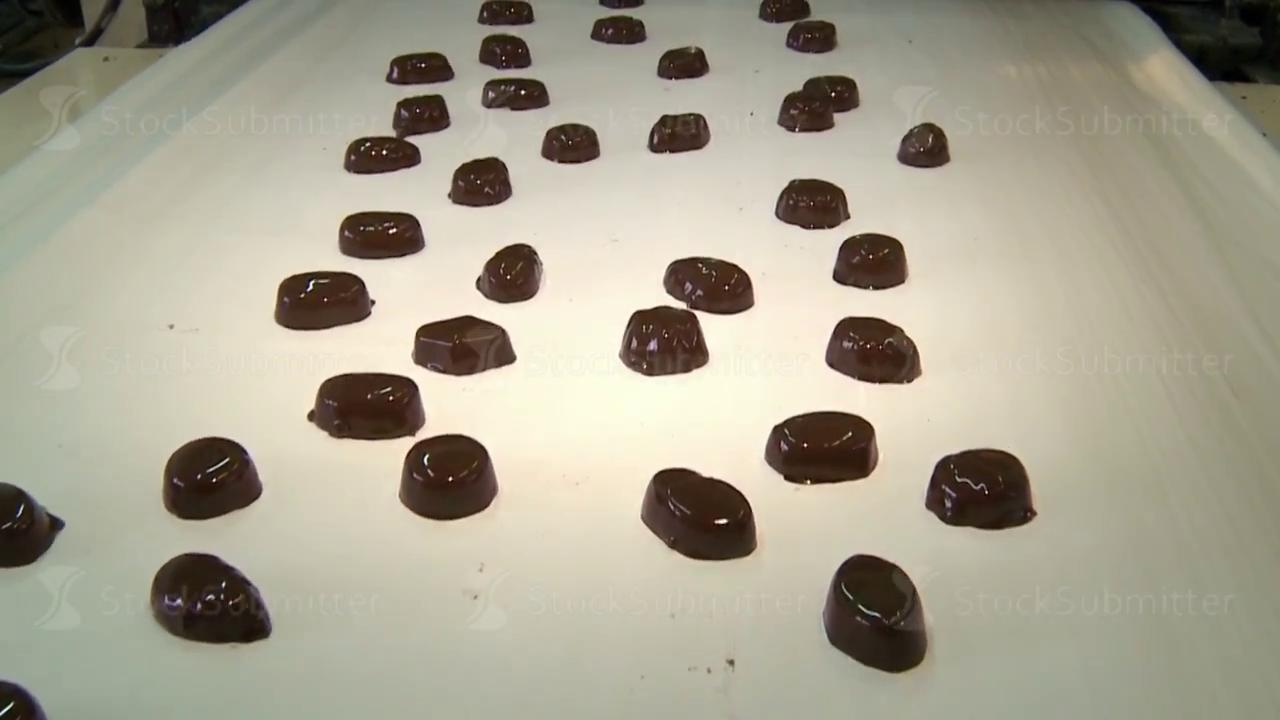chocolate: (822, 553, 928, 673), (150, 551, 271, 643), (640, 466, 757, 560), (925, 447, 1036, 530), (398, 433, 498, 519), (764, 410, 878, 484), (162, 435, 262, 519), (308, 371, 425, 440), (825, 315, 921, 384), (412, 315, 516, 376), (619, 305, 708, 376), (274, 270, 373, 330), (0, 481, 65, 568), (663, 256, 754, 314), (833, 232, 907, 289), (338, 210, 424, 259), (476, 243, 543, 303), (775, 177, 850, 229), (448, 156, 512, 207), (343, 135, 420, 173), (648, 112, 710, 153), (897, 122, 950, 168), (541, 122, 600, 163), (393, 93, 450, 135), (778, 90, 834, 132), (386, 51, 454, 84), (481, 77, 549, 110), (479, 33, 531, 69), (657, 45, 709, 79), (786, 20, 836, 53), (590, 15, 646, 44), (477, 0, 534, 25), (758, 0, 810, 23)
